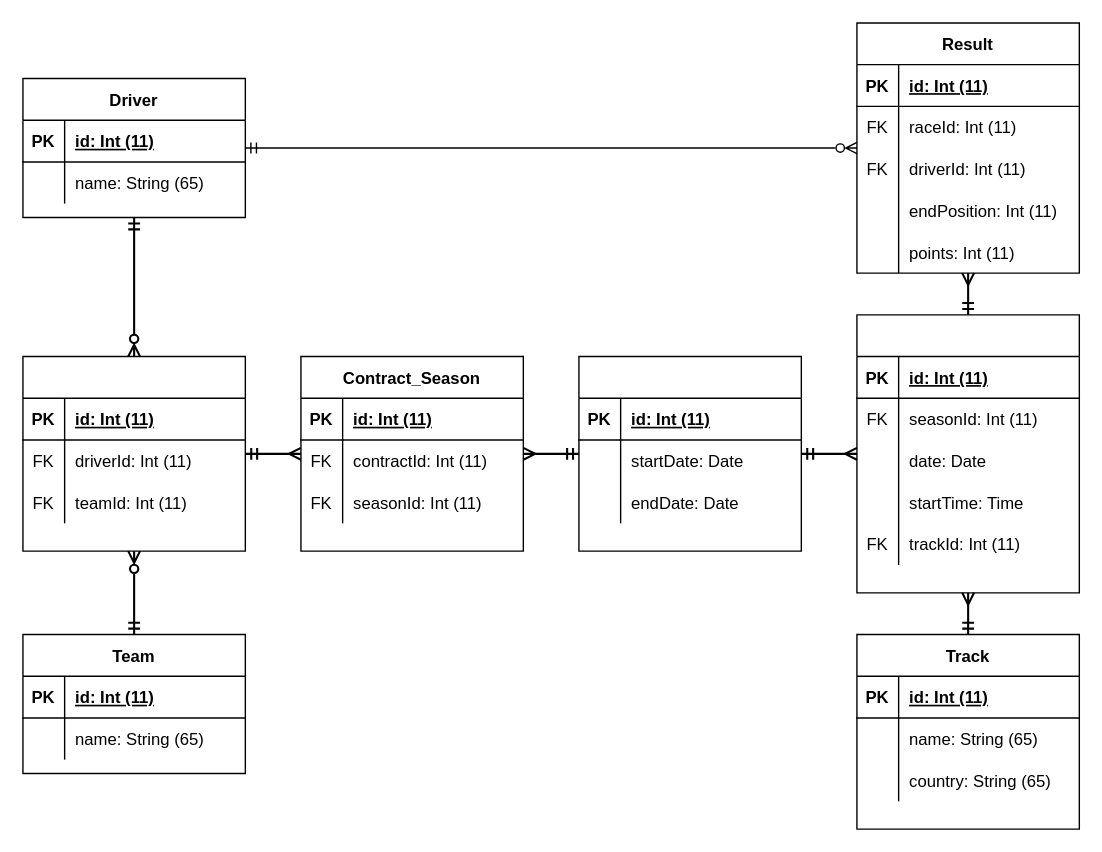
This 1102x852 diagram has some shape labels left out. Here are the shapes that lost their labels. From the top down, the box of each, then its label:
(22, 355, 245, 551): Contract
(578, 355, 801, 551): Season
(856, 313, 1079, 593): Race
